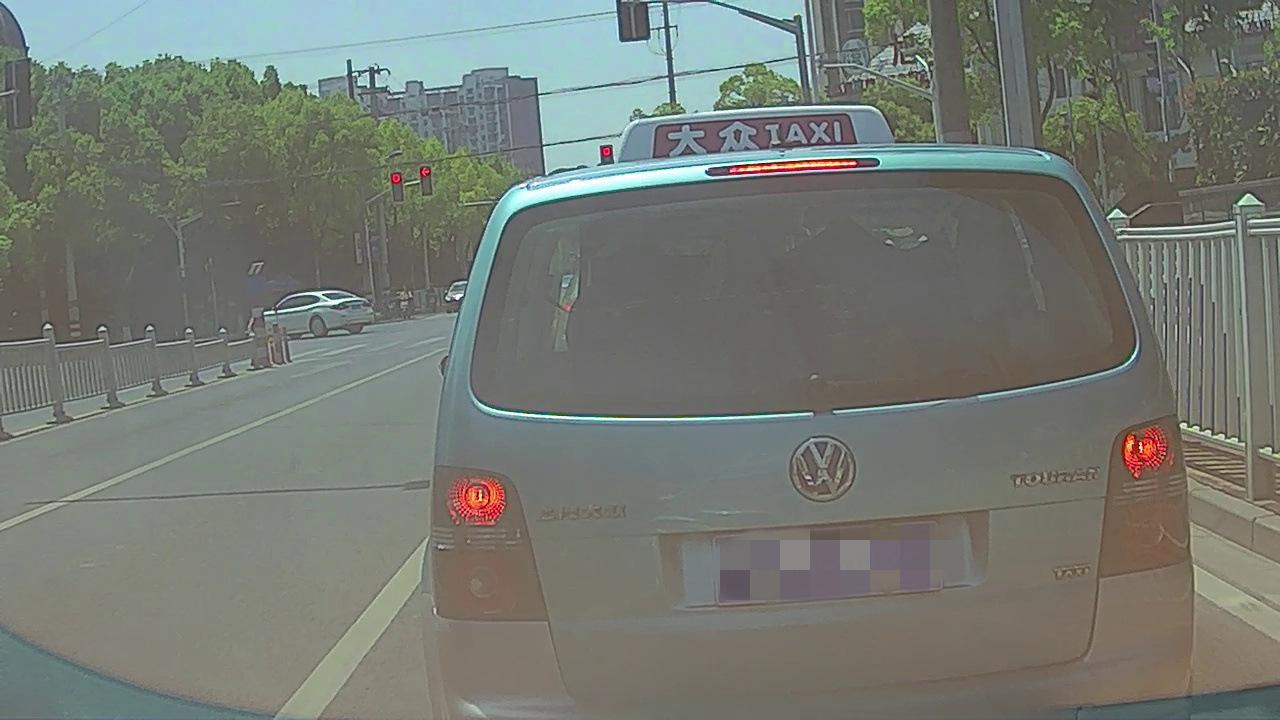traffic_light: (391, 172, 403, 201), (421, 166, 431, 195), (601, 146, 614, 165)
